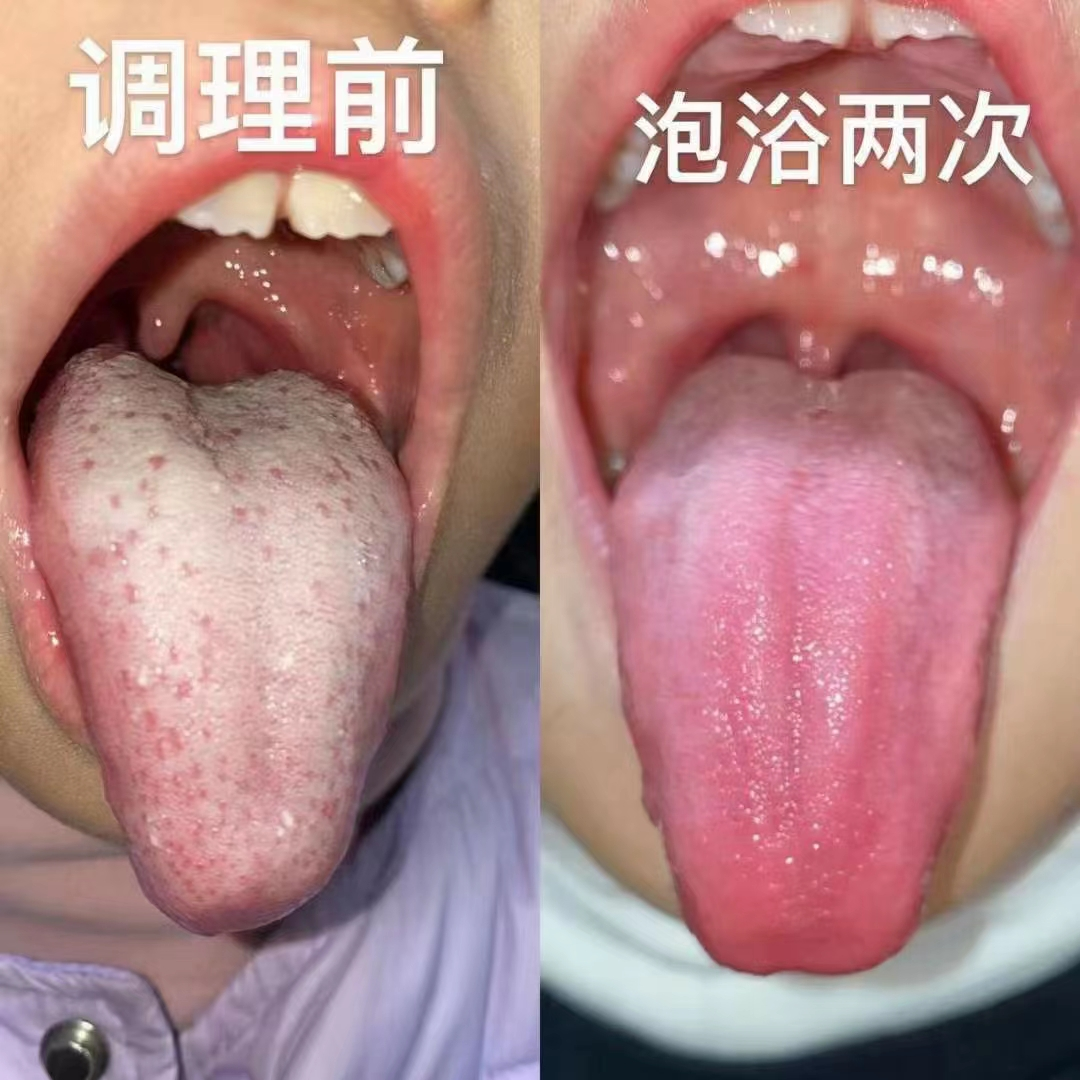baitaishe: (613, 354, 1018, 976), (30, 343, 410, 939)
hongdianshe: (77, 443, 383, 557), (132, 690, 252, 906)
hongshe: (612, 354, 1017, 976)
shoushe: (30, 344, 410, 940)
